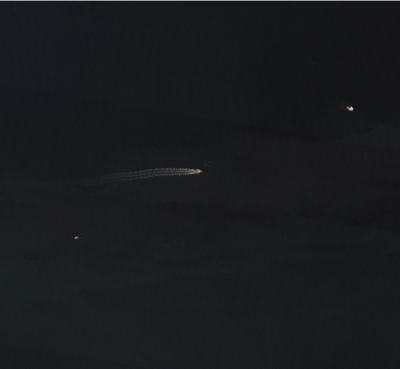boat: (347, 106, 354, 111), (74, 236, 79, 239), (200, 170, 203, 172)
